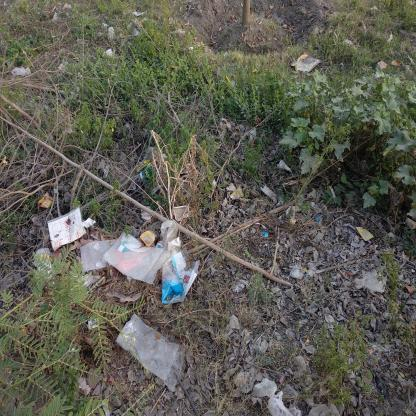Normal paper: (47, 205, 86, 251)
Other plastic: (356, 227, 375, 241), (38, 191, 53, 208), (233, 277, 248, 292), (230, 186, 244, 199), (254, 222, 266, 229), (289, 218, 295, 225), (262, 232, 268, 237)
Other plastic cup: (173, 205, 190, 221)
Plastic film: (115, 314, 186, 392), (102, 231, 172, 284), (161, 248, 200, 304), (80, 239, 117, 272), (268, 391, 302, 415), (33, 248, 52, 276), (361, 272, 387, 292), (160, 220, 177, 250), (167, 236, 181, 254), (81, 276, 100, 289), (140, 231, 155, 246), (11, 66, 31, 75), (154, 240, 165, 247)
Plastic lid: (230, 81, 235, 88)
Plastic straw: (349, 224, 372, 244), (226, 76, 232, 86)
Styrofoam piece: (233, 371, 253, 390), (262, 185, 278, 202), (277, 160, 292, 172), (286, 206, 296, 222), (141, 209, 151, 223)
Unlabeled litter: (291, 51, 321, 73), (82, 217, 97, 229), (87, 319, 97, 330), (144, 205, 152, 217), (140, 171, 147, 180), (279, 375, 286, 384), (316, 215, 322, 223)
